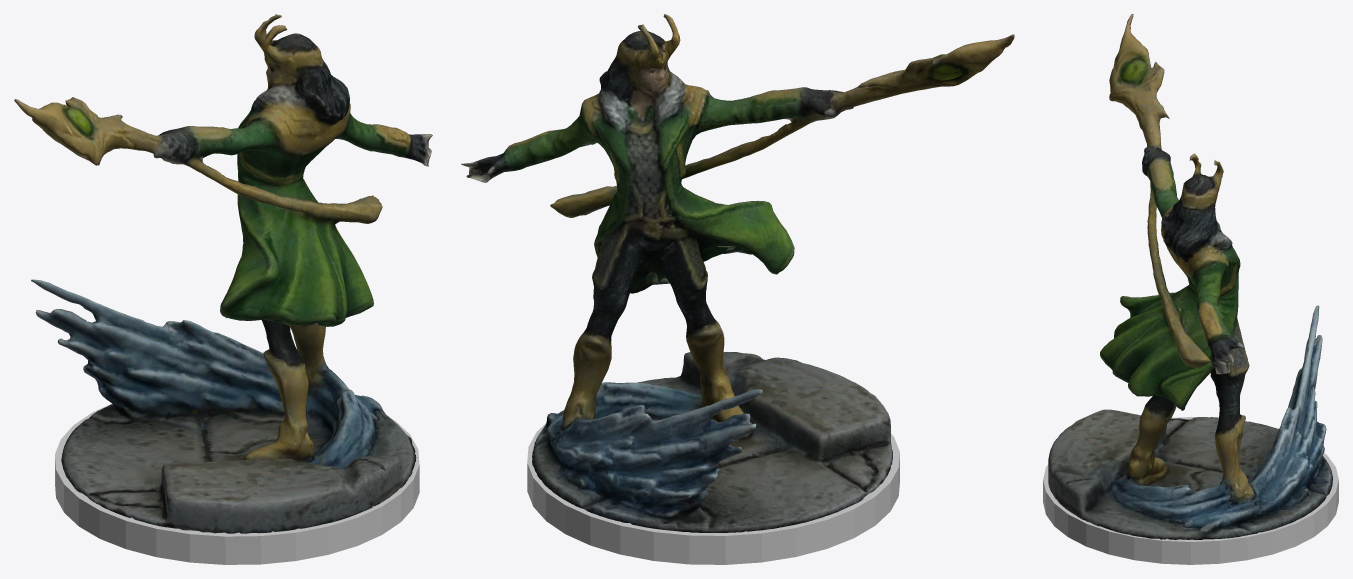
3 views of the same model, side by side, from view 1: azimuth 30°, elevation 25°; view 2: azimuth 150°, elevation 25°; view 3: azimuth 270°, elevation 25° (orthographic). The views are drawn at different scales.
Parts seen in each view (by area): view 1: Loki, default; view 2: Loki, default; view 3: Loki, default.
Boxes of the visible parts, x1,y1,x2,y2 form: Loki: [14, 14, 432, 533]; default: [55, 403, 419, 564]; Loki: [461, 14, 1014, 532]; default: [527, 423, 899, 564]; Loki: [1048, 14, 1332, 539]; default: [1043, 417, 1338, 564].
Bounding box in the file's own units: 2.09 × 1.99 × 1.38.
2 materials, 1 textured.
